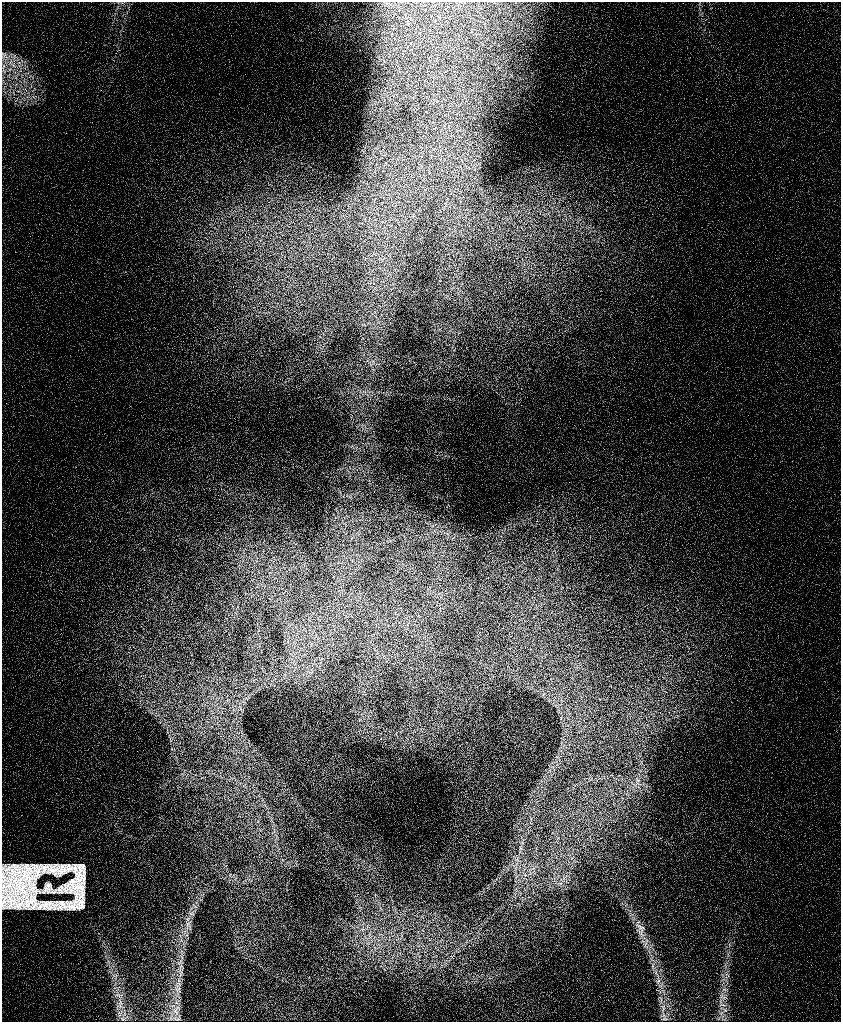lumbar scoliosis: (321, 100, 488, 628)
